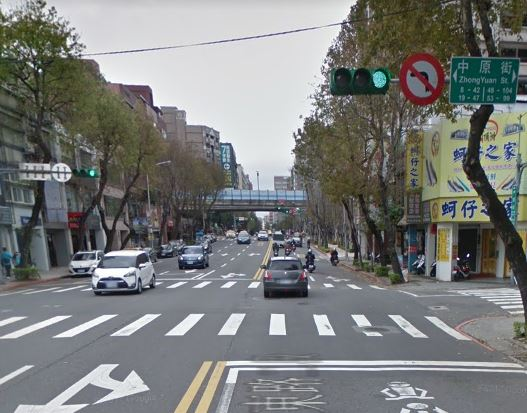Traffic_light_green: (330, 65, 392, 96), (71, 165, 101, 179)
car: (88, 247, 161, 296), (259, 254, 313, 299), (176, 244, 211, 270)
